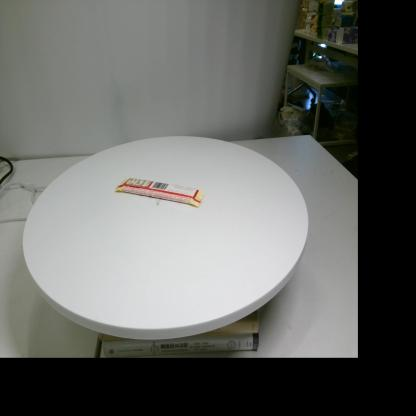Chocolate: (115, 178, 204, 207)
